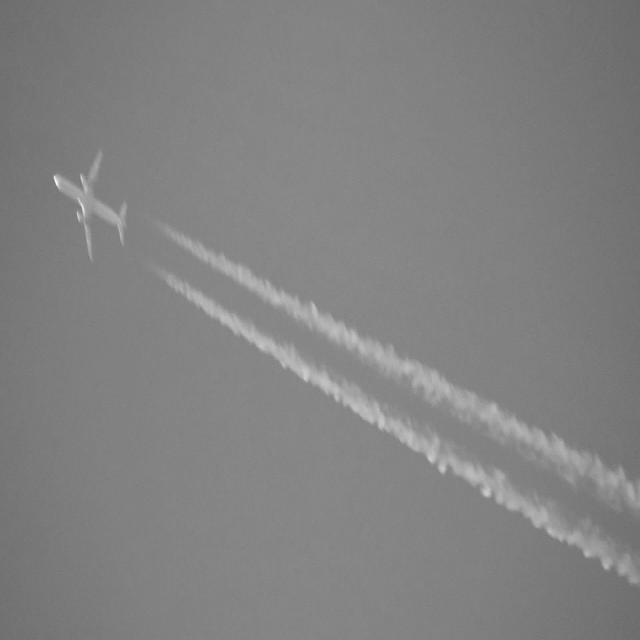aeroplane: (52, 147, 132, 260)
